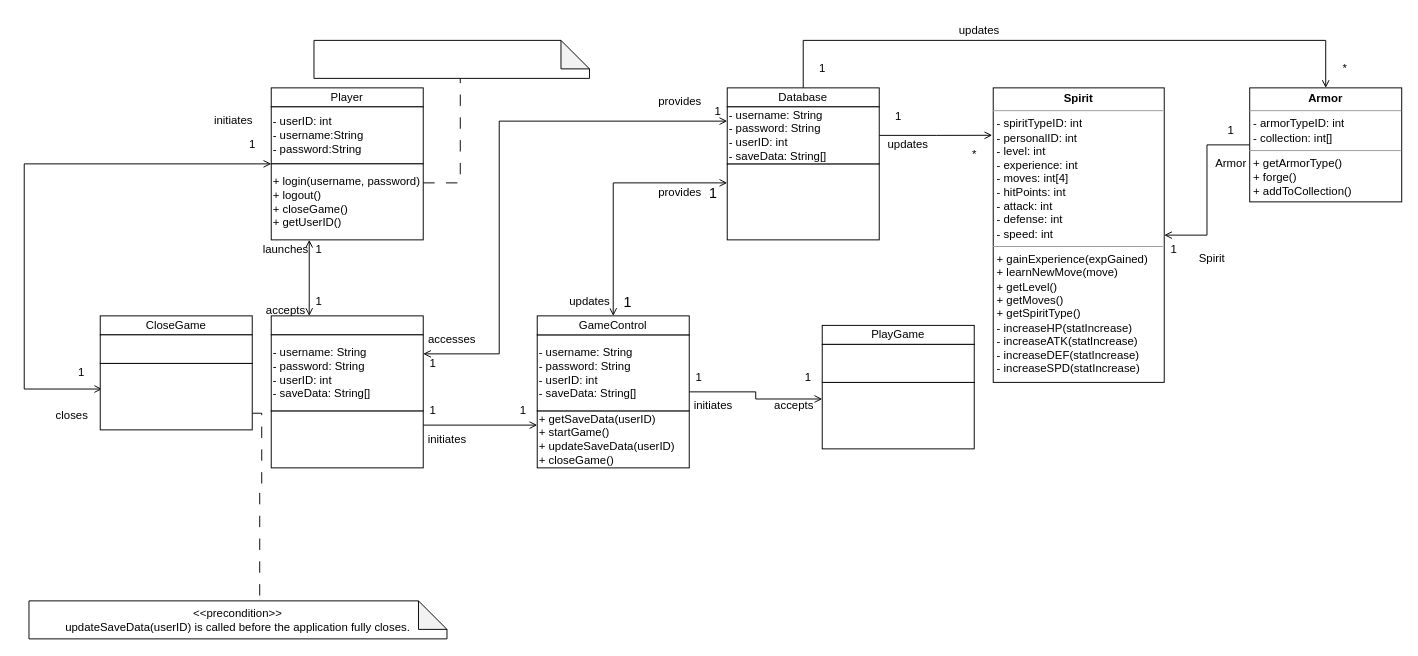
This 1418x656 diagram has some shape labels left out. Here are the shapes that lost their labels. From the top down, the centre of each, then its label:
point 451,58: <<precondition>> username != null && password != null
point 802,201: + checkUserID(userID) + getSaveData(userID) + updateSaveData(userID)
point 346,325: LaunchGame
point 897,362: - input: String - display: Display
point 175,396: + closeGame() + updateSaveData(userID) + confirmClose() + logout()
point 897,415: + enterInput(input) + move(input) + update(display) + startClose()
point 346,439: + getSaveData(userID) + startGame() + confirmClose()
